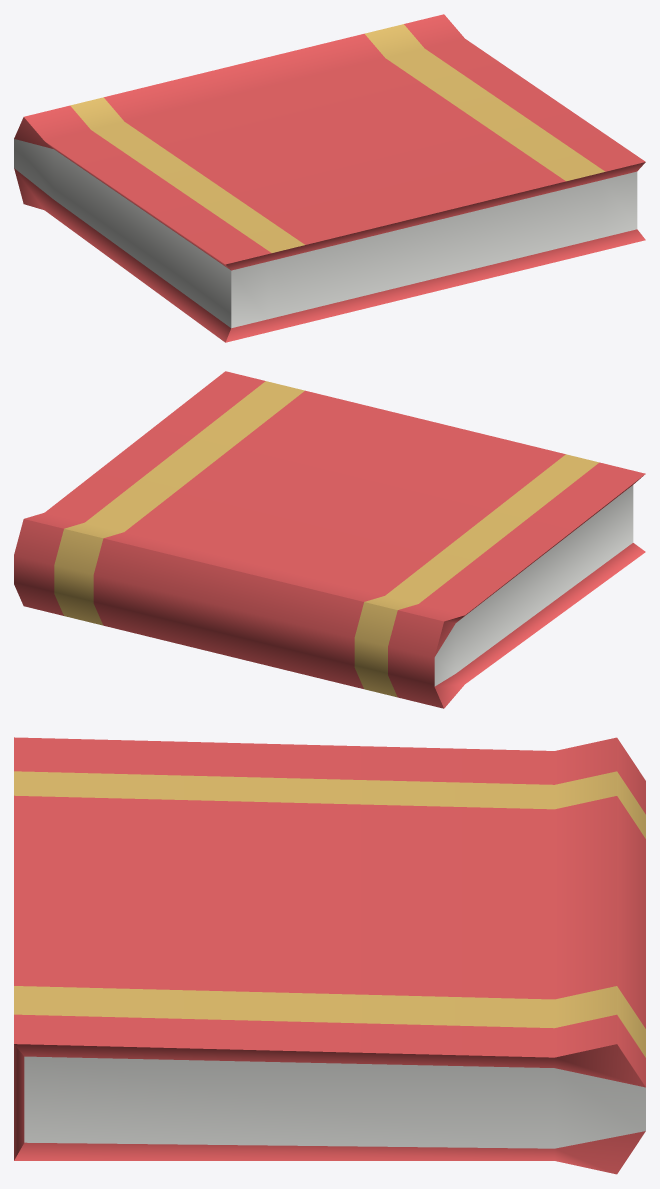
The model's file is RedBook_Mesh.fbx.
The picture shows the model from 3 angles, top to bottom: view 1: azimuth 30°, elevation 25°; view 2: azimuth 150°, elevation 25°; view 3: azimuth 270°, elevation 25°; orthographic projection. The views are drawn at different scales.
Parts seen in each view (by area): view 1: pCube10; view 2: pCube10; view 3: pCube10.
Boxes of the visible parts, x1=… form: pCube10: x1=14, y1=14, x2=645, y2=342; pCube10: x1=14, y1=371, x2=645, y2=708; pCube10: x1=14, y1=737, x2=645, y2=1174.
Size of the model in its own units: 5.04 by 1 by 4.39.
